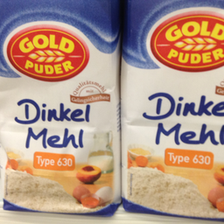flour: (1, 1, 123, 217), (120, 2, 224, 222)
